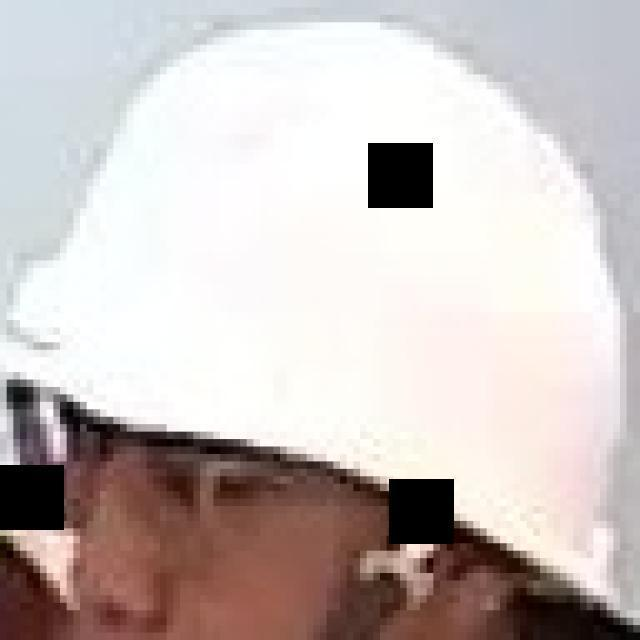white helmet: (1, 11, 640, 640)
